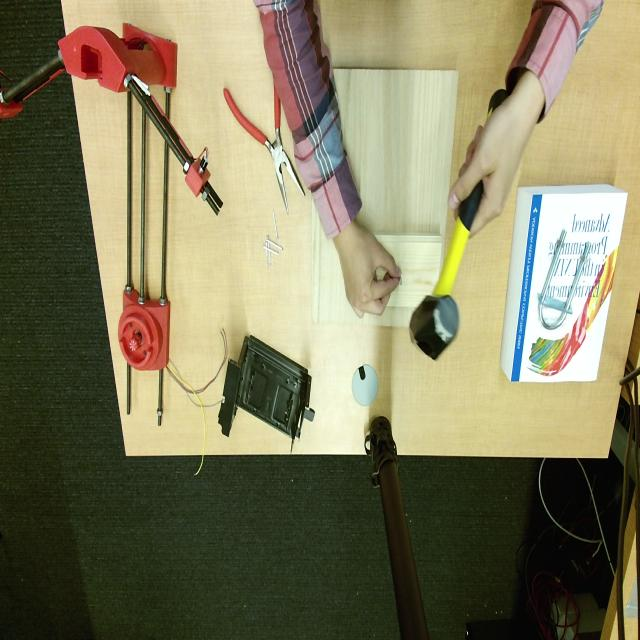hammer: (410, 180, 482, 360)
pliers: (224, 89, 304, 211)
